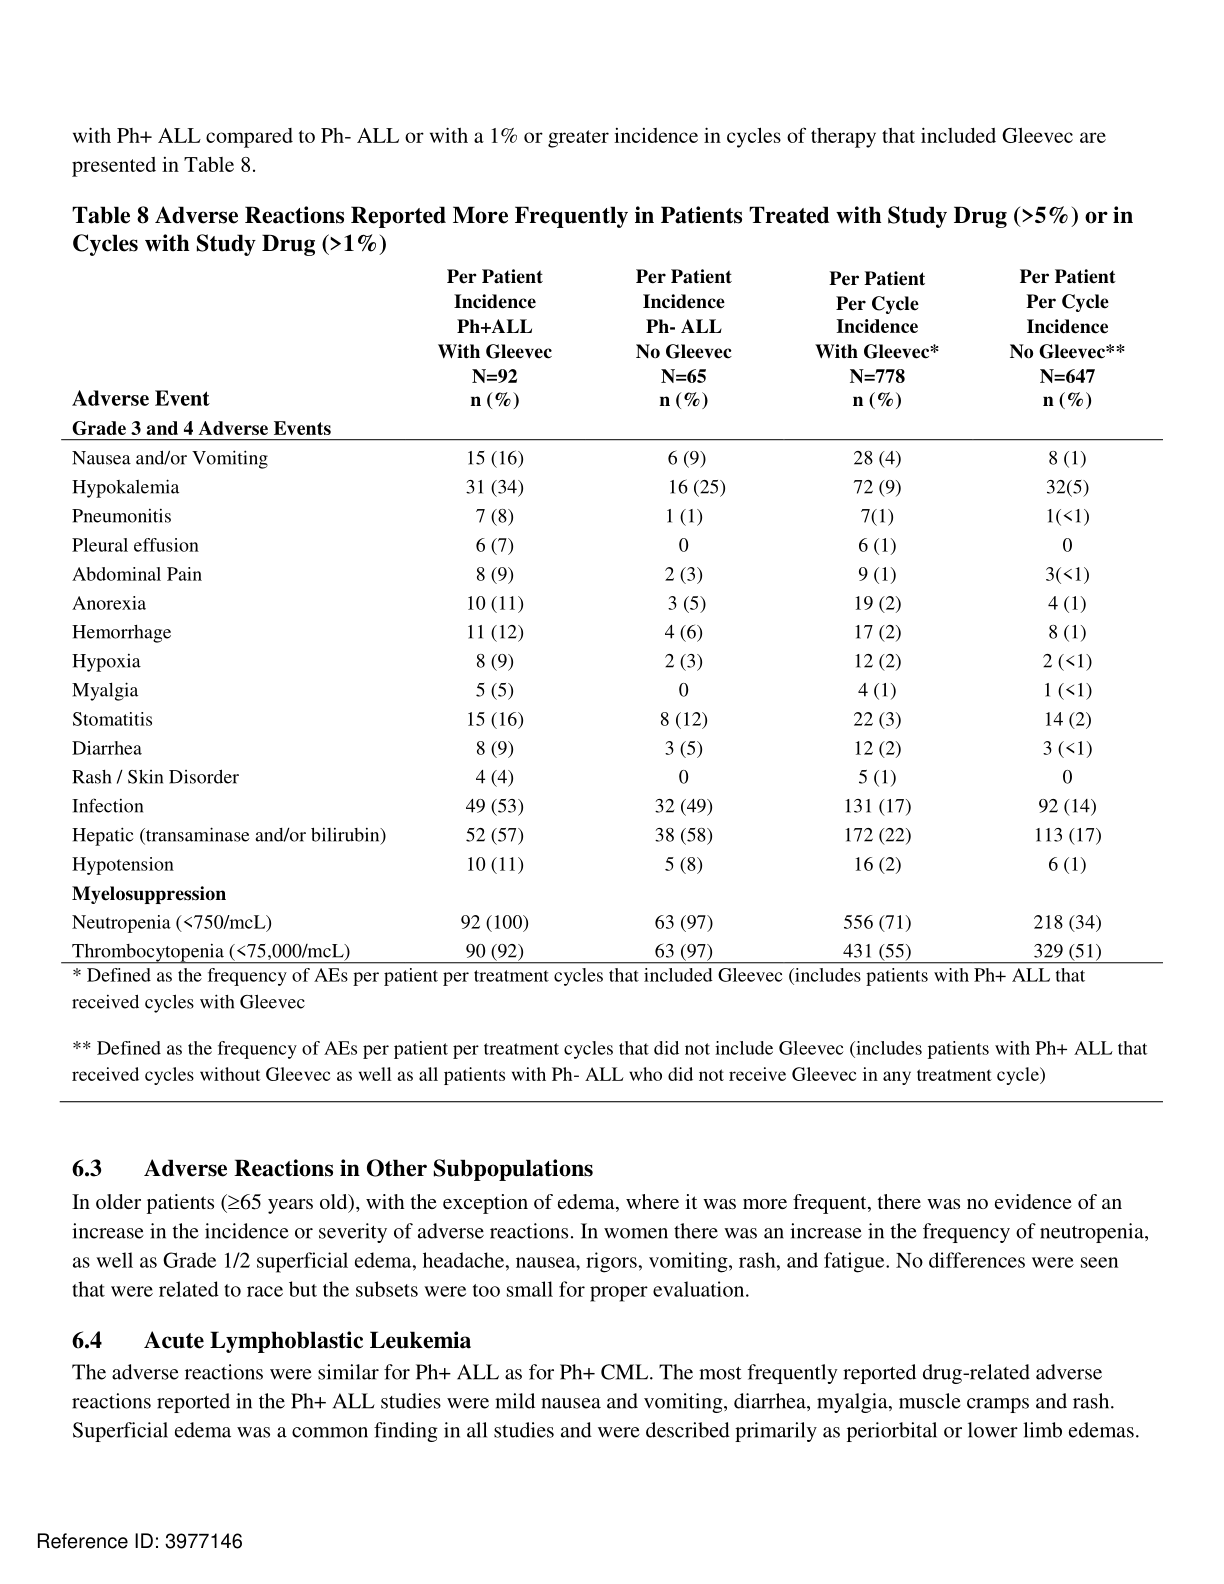partial_lined: (57, 252, 1165, 968)
